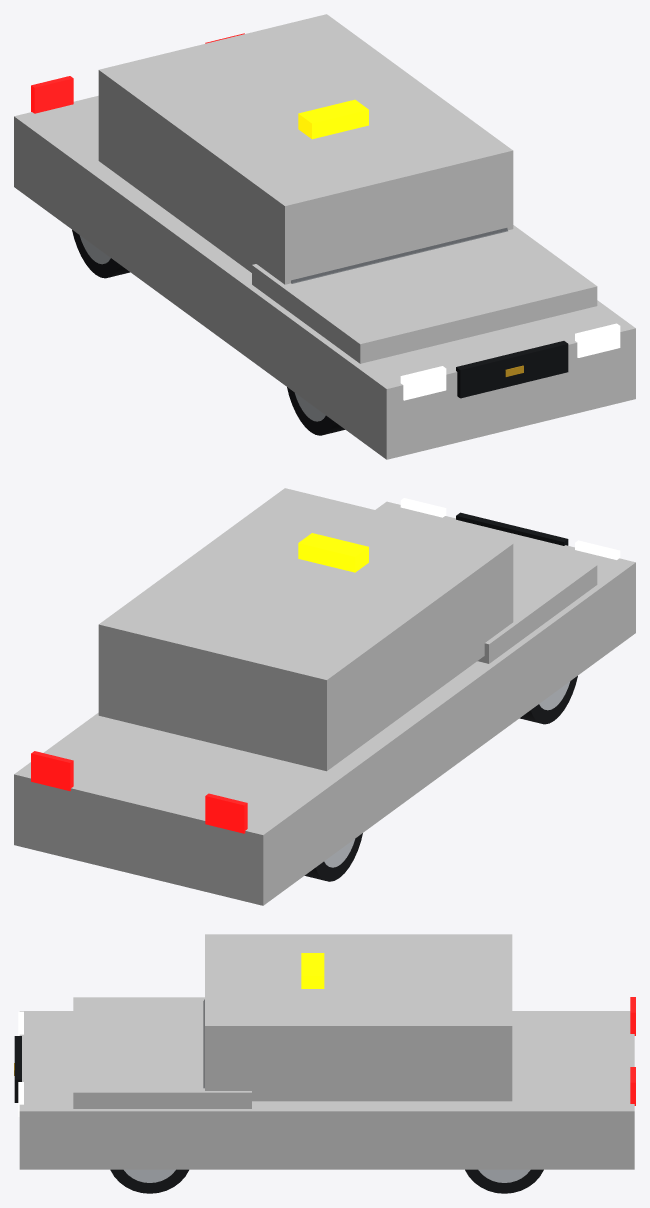
Rendered from nexia.glb.
The picture shows the model from 3 angles, top to bottom: view 1: azimuth 30°, elevation 25°; view 2: azimuth 150°, elevation 25°; view 3: azimuth 270°, elevation 25°; orthographic projection. The views are drawn at different scales.
Parts seen in each view (by area): view 1: body_group, wheel_fr, wheel_rr; view 2: body_group, wheel_rr, wheel_fr; view 3: body_group, wheel_rl, wheel_fl.
Part boxes in pixels (x1,y1,x2,y2): body_group: (14, 14, 635, 459); wheel_fr: (287, 387, 345, 435); wheel_rr: (72, 230, 129, 278); body_group: (14, 488, 635, 905); wheel_rr: (304, 833, 362, 881); wheel_fr: (519, 676, 577, 724); body_group: (14, 934, 635, 1169); wheel_rl: (465, 1169, 543, 1193); wheel_fl: (110, 1169, 188, 1193).
Size of the model in its own units: 1.66 by 1.39 by 4.35.
